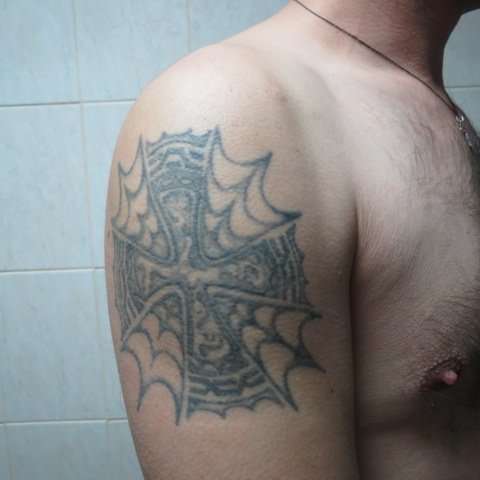tatu9_krest: (102, 123, 336, 424)
